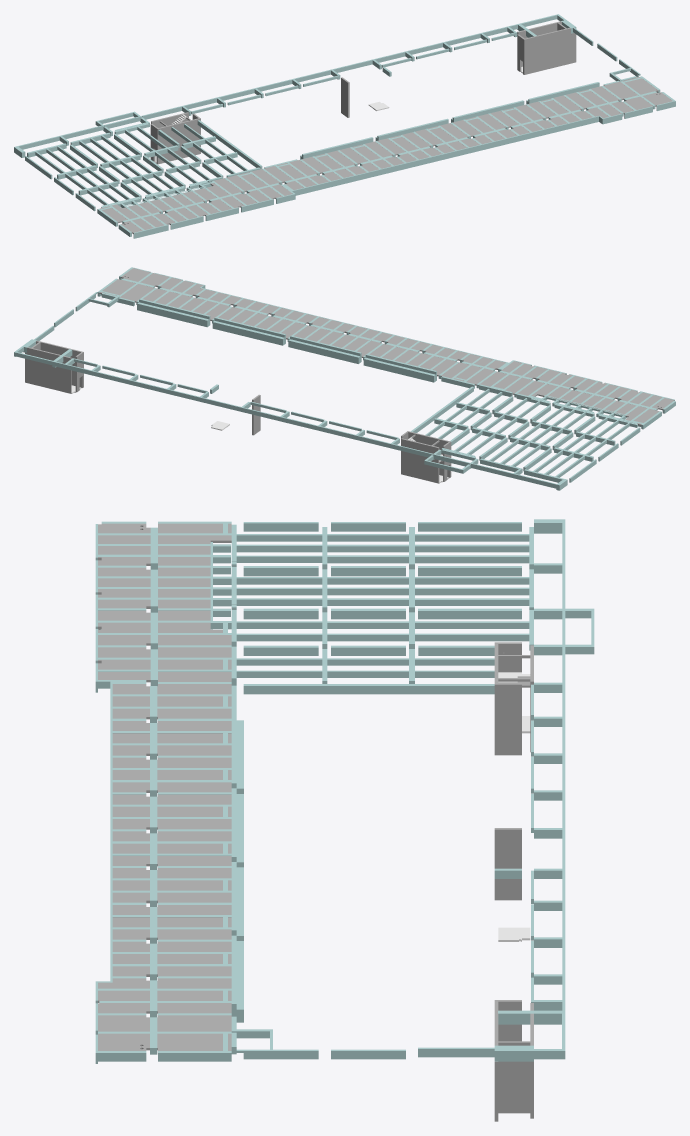
The model's file is detail-frame-3-2f.glb.
3 renders of one model, top to bottom at view 1: azimuth 30°, elevation 25°; view 2: azimuth 150°, elevation 25°; view 3: azimuth 270°, elevation 25°, orthographic. The views are drawn at different scales.
Bounding box in the file's own units: 104 × 7.16 × 41.26.
